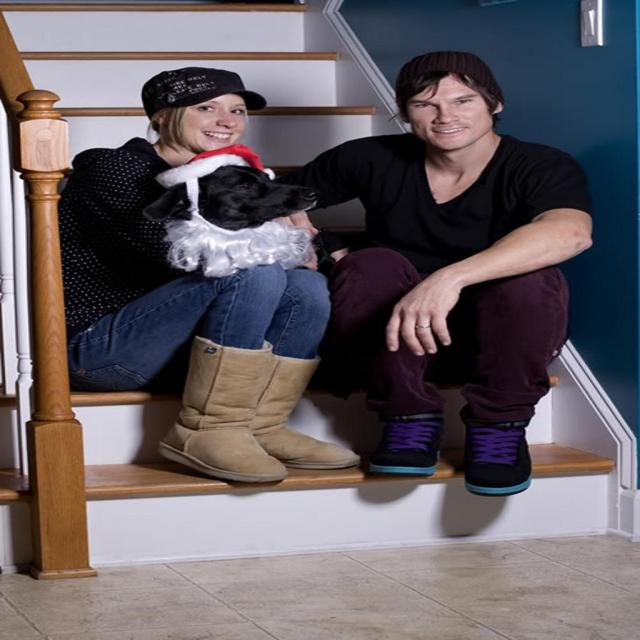Face: (404, 79, 497, 150), (166, 94, 250, 148)
